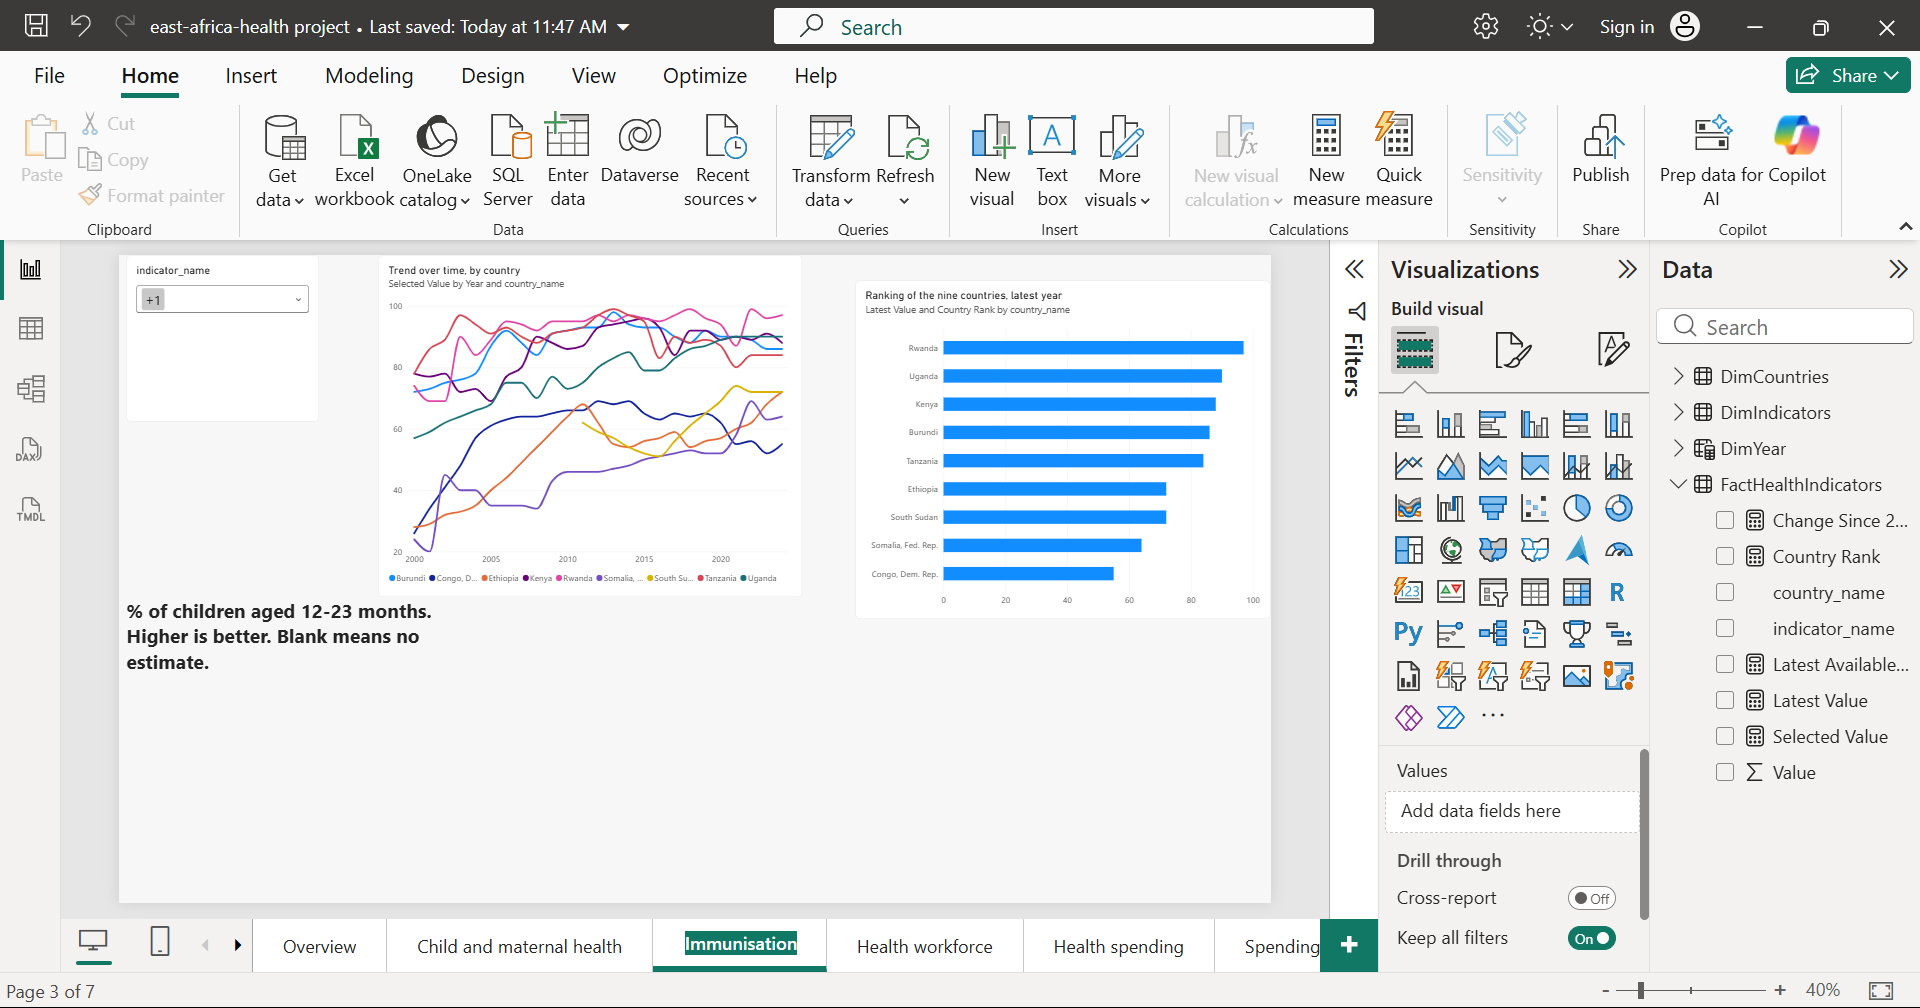

The dashboard page shown, as its layout file describes it:
{"tool":"powerbi","page":{"name":"Immunisation","canvas":[1920,1080],"ordinal":2},"visuals":[{"type":"listSlicer","fields":{"Values":["DimIndicators.indicator_name"]},"box":[11.3,0,320.3,277.8],"z":0},{"type":"lineChart","title":"Trend over time, by country","fields":{"Category":["DimYear.Year"],"Series":["FactHealthIndicators.country_name"],"Y":["FactHealthIndicators.Selected Value"]},"box":[433.7,0,705.8,569.8],"z":1000},{"type":"clusteredBarChart","title":"Ranking of the nine countries, latest year","fields":{"Category":["FactHealthIndicators.country_name"],"Y":["FactHealthIndicators.Latest Value"]},"box":[1227.4,42.5,691.7,564.1],"z":2000},{"type":"textbox","box":[11.3,569.8,521.6,170.1],"z":2001}]}

Visuals, with their boxes on the page's 1920x1080 design canvas (x1, y1, x2, y2). These are canvas units, not pixel positions in the 1920x1008 screenshot, which may show the page scaled, cropped or inside an application window:
listSlicer - DimIndicators.indicator_name: <region>11, 0, 332, 278</region>
"Trend over time, by country" lineChart: <region>434, 0, 1140, 570</region>
"Ranking of the nine countries, latest year" clusteredBarChart: <region>1227, 42, 1919, 607</region>
textbox: <region>11, 570, 533, 740</region>
